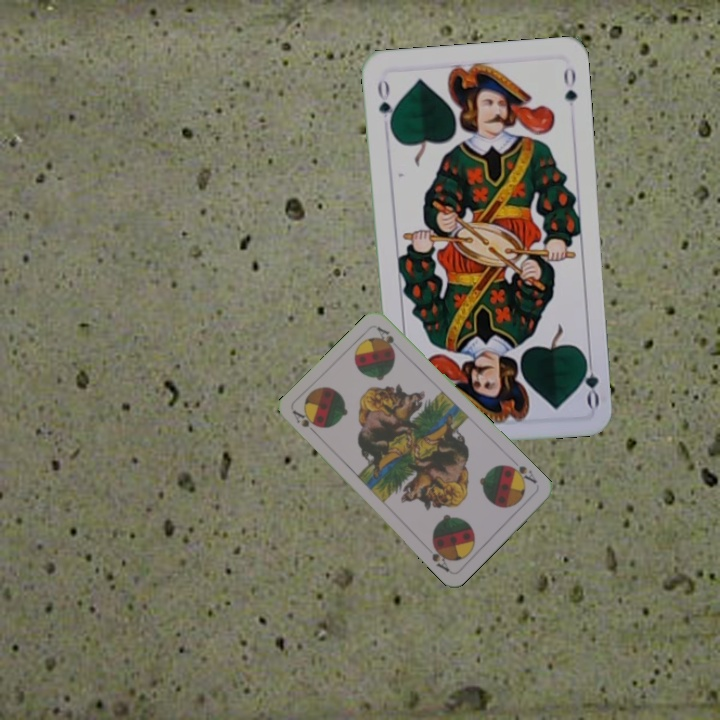GO: (577, 350, 602, 410), (373, 75, 398, 133)
SA: (288, 406, 321, 439), (503, 461, 540, 487)
